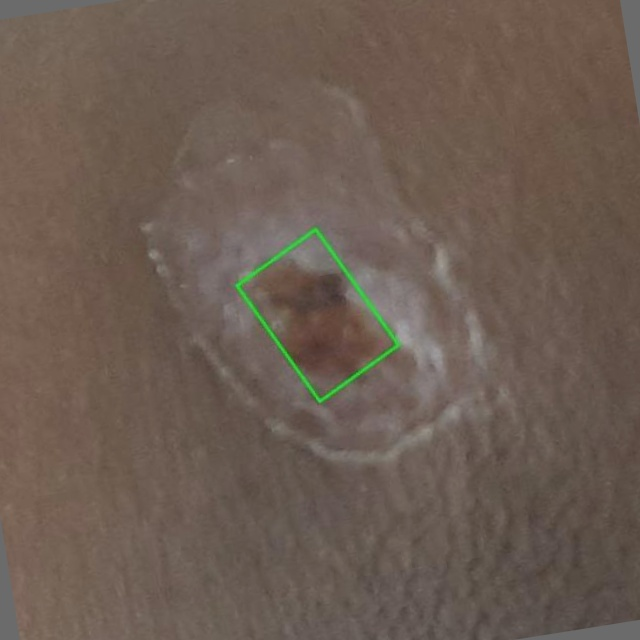Eczema: (236, 229, 398, 402)
